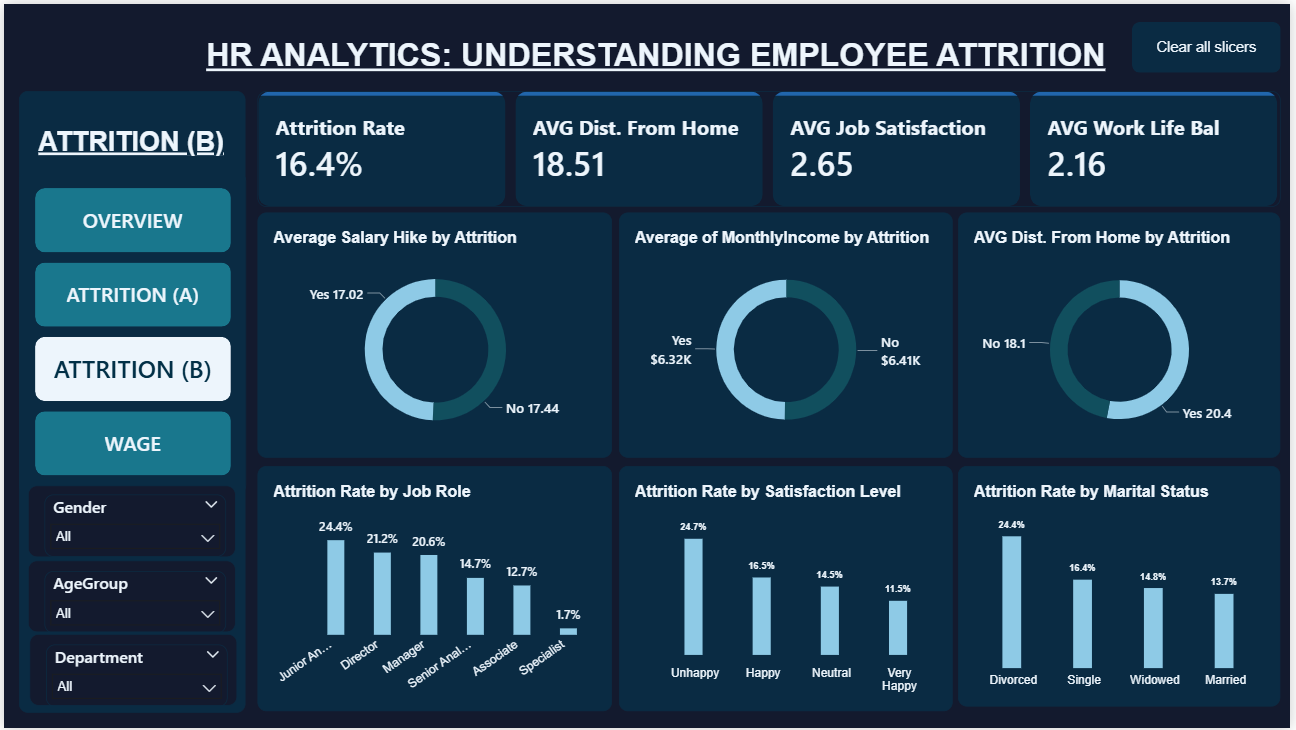

What the dashboard file says about the page in this screenshot:
{"tool":"powerbi","page":{"name":"ATTRITION (B)","canvas":[1280,720],"ordinal":2},"visuals":[{"type":"shape","box":[15,86.7,225,618.3],"z":0},{"type":"textbox","box":[22.8,122,208.2,68.3],"z":1000},{"type":"textbox","box":[91.7,33.3,1115,70],"z":2000},{"type":"cardVisual","fields":{"Data":["measure.Attrition Rate","measure.AVG Dist. From Home","measure.AVG Job Satisfaction","measure.AVG Work Life Bal"]},"box":[252.3,86.5,1018.2,115.5],"z":3000},{"type":"donutChart","fields":{"Category":["hr_attrition compensation.Attrition"],"Y":["measure.AVG Dist. From Home"]},"box":[949.9,208.2,320.4,244],"z":4000},{"type":"columnChart","title":"Attrition Rate by Job Role","fields":{"Category":["hr_attrition employee.JobRole"],"Y":["measure.Attrition Rate"]},"box":[252.1,460.3,353,244],"z":5000},{"type":"donutChart","fields":{"Category":["hr_attrition compensation.Attrition"],"Y":["Avg(hr_attrition compensation.MonthlyIncome)"]},"box":[611.6,208.2,331.8,244],"z":6000},{"type":"donutChart","title":"Average Salary Hike by Attrition","fields":{"Category":["hr_attrition compensation.Attrition"],"Y":["Avg(hr_attrition compensation.PercentSalaryHike)"]},"box":[252.1,208.2,353,244],"z":7000},{"type":"clusteredColumnChart","title":"Attrition Rate by Marital Status","fields":{"Category":["hr_attrition employee.MaritalStatus"],"Y":["measure.Attrition Rate"]},"box":[949.9,460.3,320.4,239.1],"z":8000},{"type":"clusteredColumnChart","title":"Attrition Rate by Satisfaction Level","fields":{"Y":["measure.Attrition Rate"],"Category":["hr_attrition compensation.satisfactionlevel"]},"box":[611.6,460.3,331.8,244],"z":9000},{"type":"pageNavigator","box":[14.6,167.5,226.1,320.4],"z":10000},{"type":"shape","box":[24.4,478.9,206.6,71.6],"z":11000},{"type":"slicer","fields":{"Values":["hr_attrition employee.Gender"]},"box":[40.7,488.7,180.5,61.8],"z":12000},{"type":"shape","box":[24.6,554,206.6,71.6],"z":13000},{"type":"slicer","fields":{"Values":["hr_attrition employee.AgeGroup"]},"box":[40.8,563.8,180.5,61.8],"z":14000},{"type":"shape","box":[24.9,627.1,206.6,71.6],"z":15000},{"type":"slicer","fields":{"Values":["hr_attrition employee.Department"]},"box":[41.1,636.9,180.5,61.8],"z":16000},{"type":"actionButton","box":[1122.3,17.9,148,50.4],"z":17000}]}

Visuals, with their boxes in screenshot pixels (x1, y1, x2, y2), scaled from the page's 1280x720 canvas onto the 1296x730 screenshot:
shape: l=15, t=88, r=243, b=715
textbox: l=23, t=124, r=234, b=193
textbox: l=93, t=34, r=1222, b=105
cardVisual - measure.Attrition Rate x measure.AVG Dist. From Home: l=255, t=88, r=1286, b=205
donutChart - hr_attrition compensation.Attrition x measure.AVG Dist. From Home: l=962, t=211, r=1286, b=458
"Attrition Rate by Job Role" columnChart: l=255, t=467, r=613, b=714
donutChart - hr_attrition compensation.Attrition x Avg(hr_attrition compensation.MonthlyIncome): l=619, t=211, r=955, b=458
"Average Salary Hike by Attrition" donutChart: l=255, t=211, r=613, b=458
"Attrition Rate by Marital Status" clusteredColumnChart: l=962, t=467, r=1286, b=709
"Attrition Rate by Satisfaction Level" clusteredColumnChart: l=619, t=467, r=955, b=714
pageNavigator: l=15, t=170, r=244, b=495
shape: l=25, t=486, r=234, b=558
slicer - hr_attrition employee.Gender: l=41, t=495, r=224, b=558
shape: l=25, t=562, r=234, b=634
slicer - hr_attrition employee.AgeGroup: l=41, t=572, r=224, b=634
shape: l=25, t=636, r=234, b=708
slicer - hr_attrition employee.Department: l=42, t=646, r=224, b=708
actionButton: l=1136, t=18, r=1286, b=69
